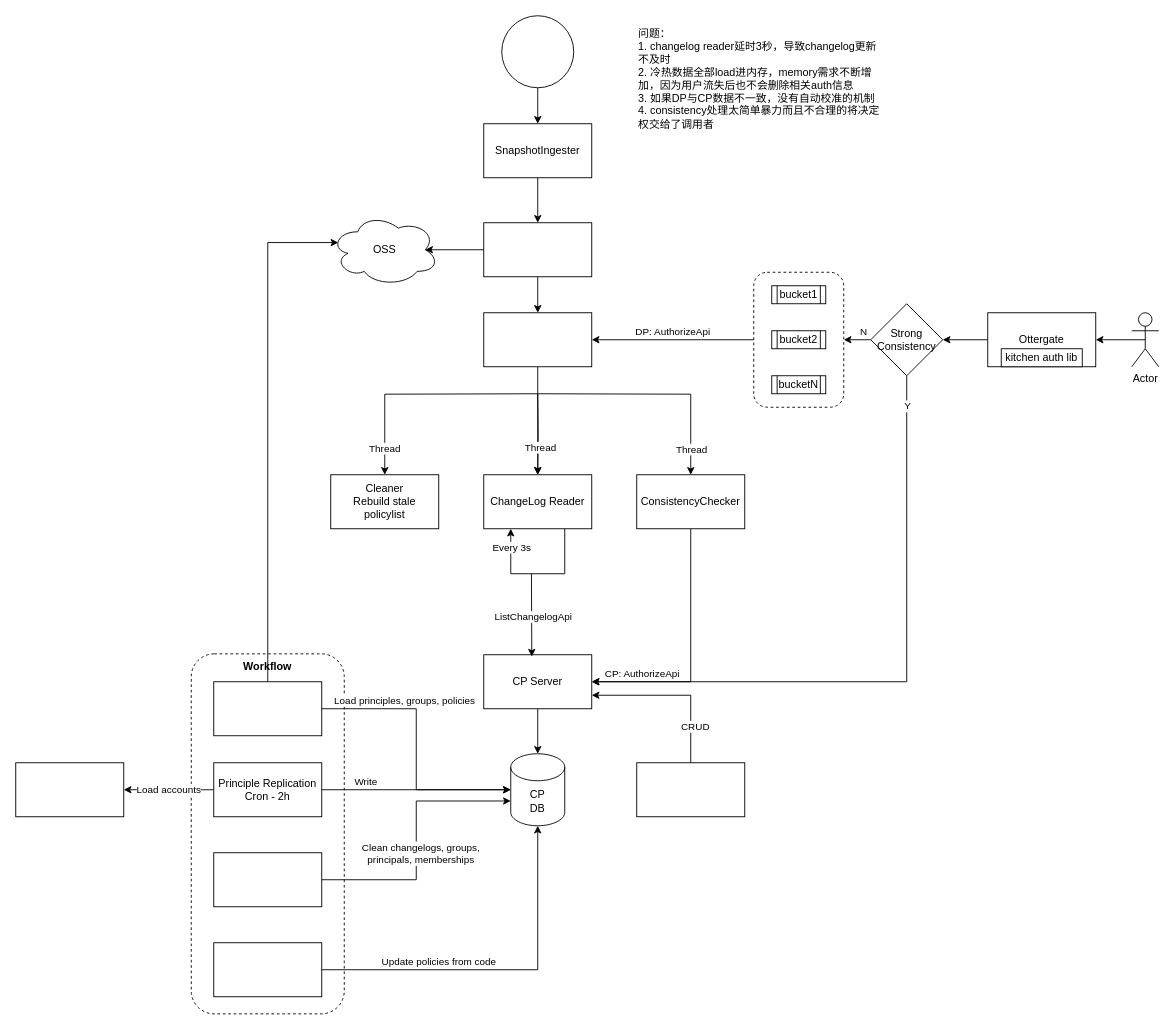
The diagram is 1175 pixels wide and 1030 high, and some of its shapes have lost their labels. Each missing label, with the centre of its shape:
Auth Role Management RBAC wrapper: (x=690, y=789)
DB Cleanup Cron - 1h: (x=267, y=879)
DP Server: (x=537, y=339)
Identity Service: (x=69, y=789)
Read Snapshot to memory: (x=537, y=249)
Server Start: (x=537, y=51)
Snapshot Generation Cron - 1h: (x=267, y=708)
Sync Policy Cron - 1h: (x=267, y=969)
